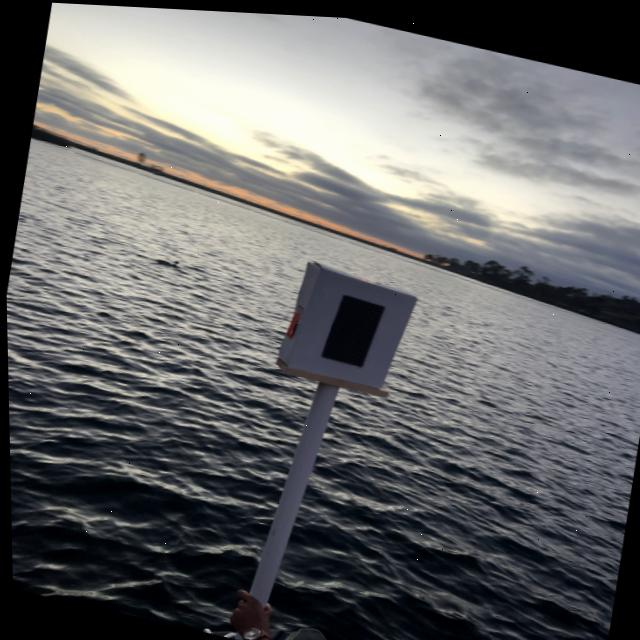led: (294, 266, 394, 390)
